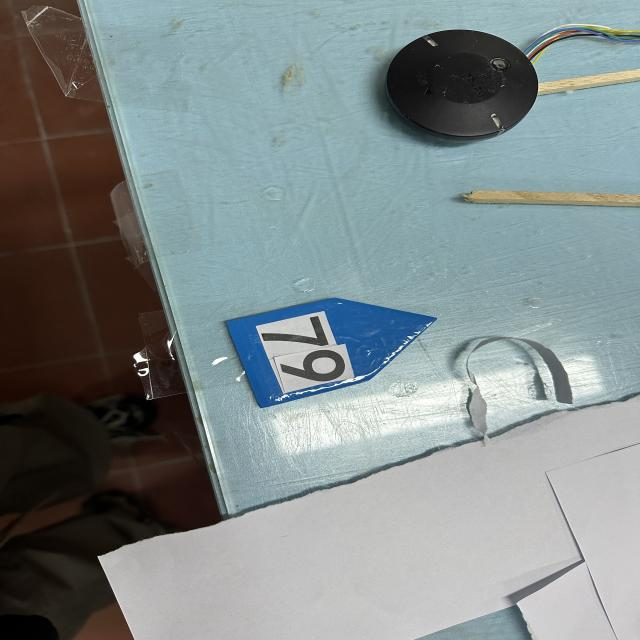board: (223, 299, 439, 406)
